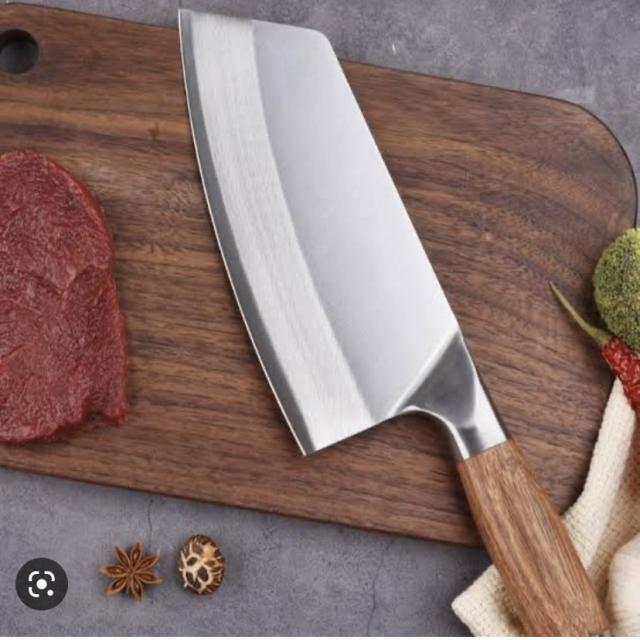Knife: (170, 8, 609, 640)
